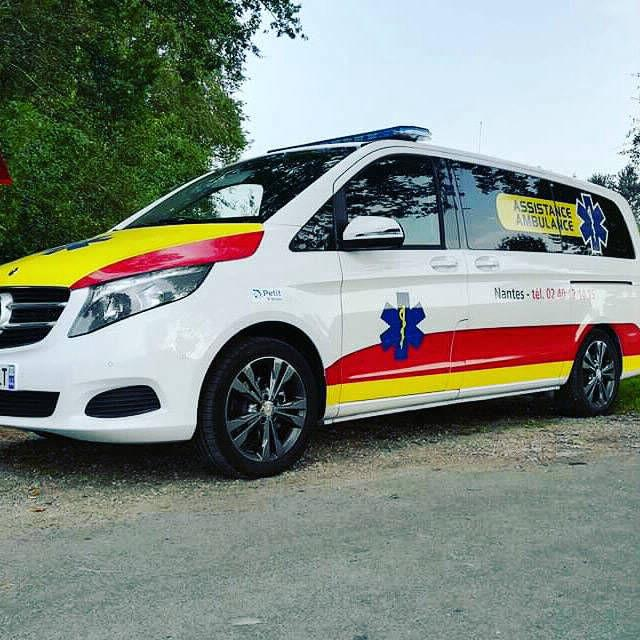ambulance: (0, 127, 640, 473)
